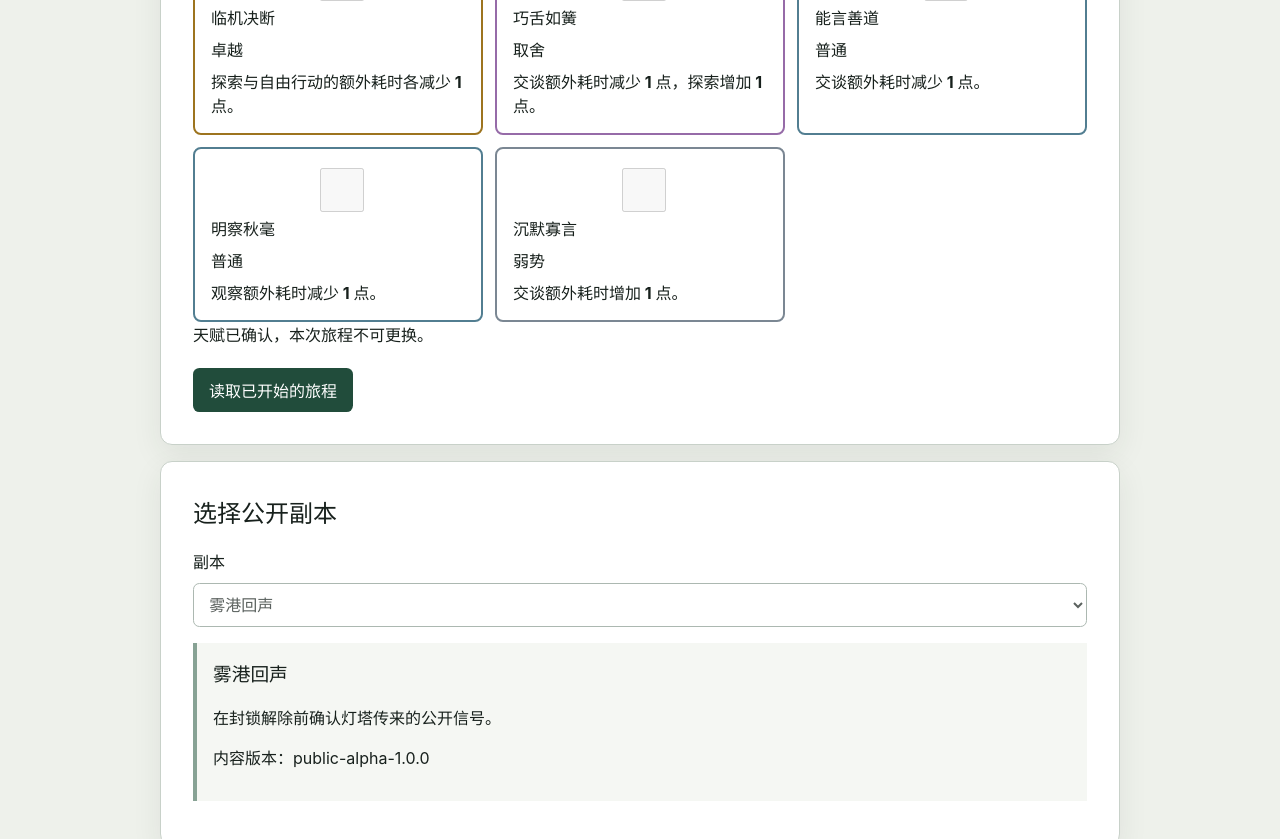
it: rejects contradictory character authority before saving Session
The width and height of the screenshot is (1280, 839).
(page scrolled)
Click the button "读取已开始的旅程". click: (273, 390)
box: [193,368,353,412]
(page scrolled)
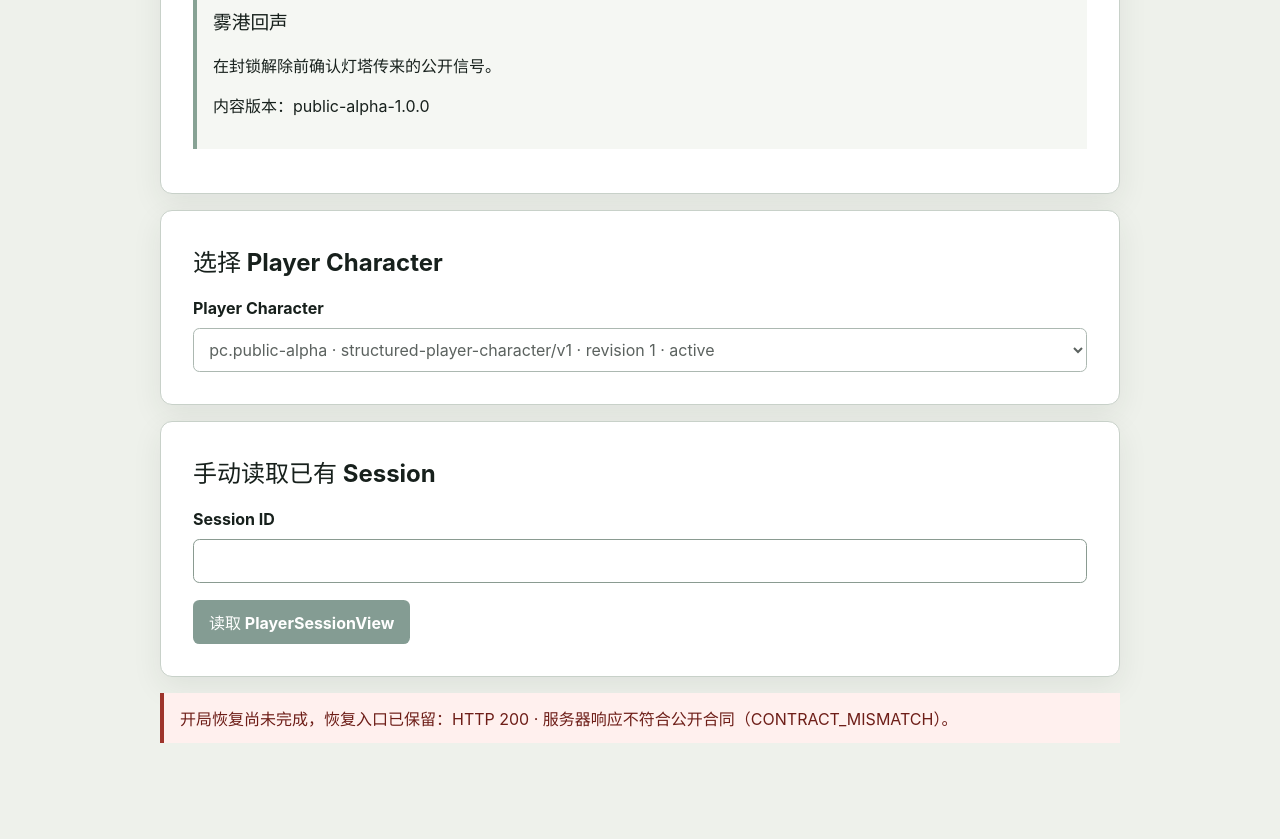
Result: the text "开局恢复尚未完成，恢复入口已保留：HTTP 200 · 服务器响应不符合公开合同（CONTRACT_MISMATCH）。" is shown at [160,693,1120,743]
